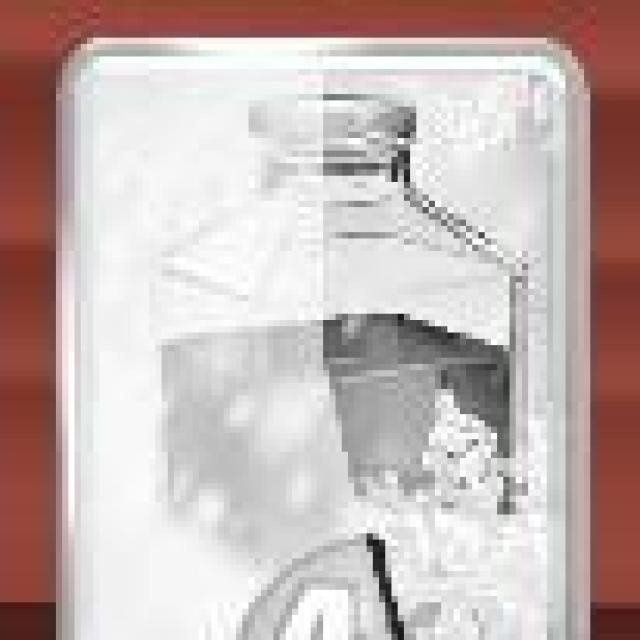Freeze: (58, 39, 583, 640)
